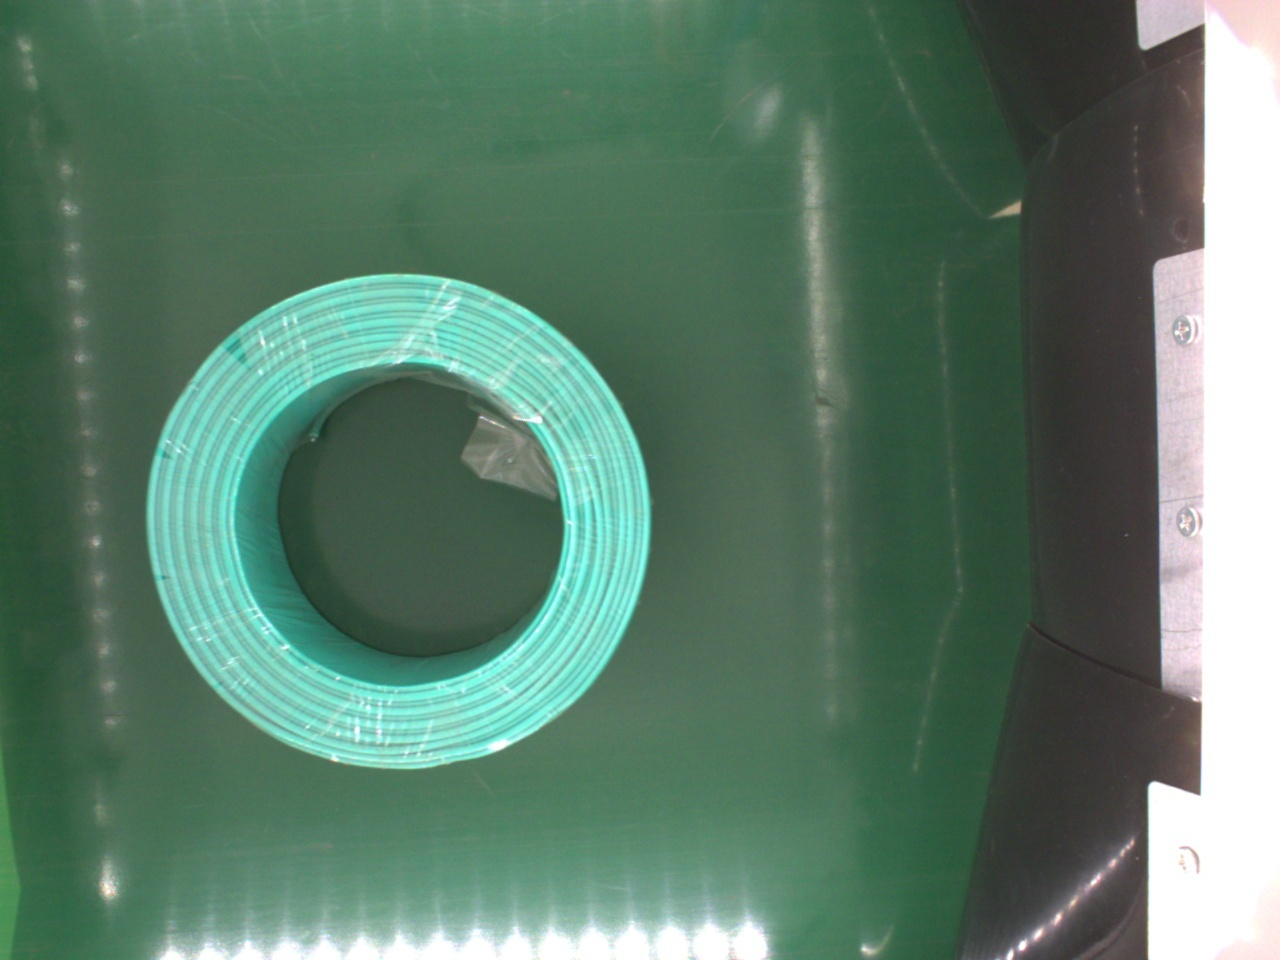green: (148, 270, 653, 772)
